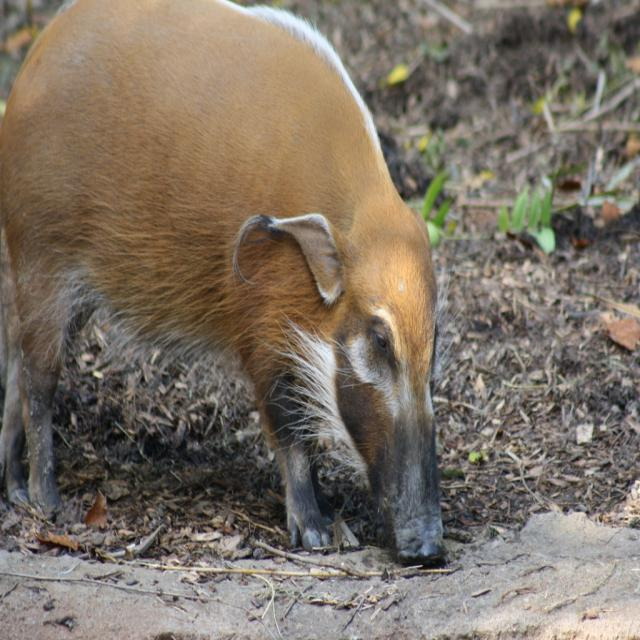Pig: (0, 0, 448, 569)
